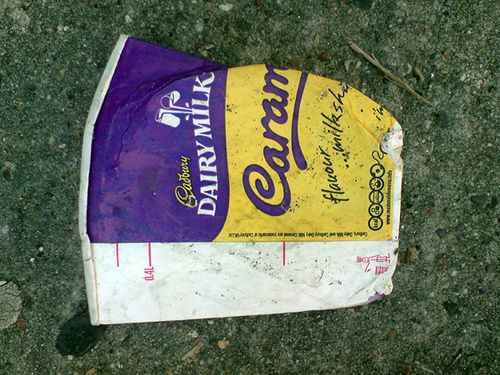litter: (76, 32, 403, 326)
